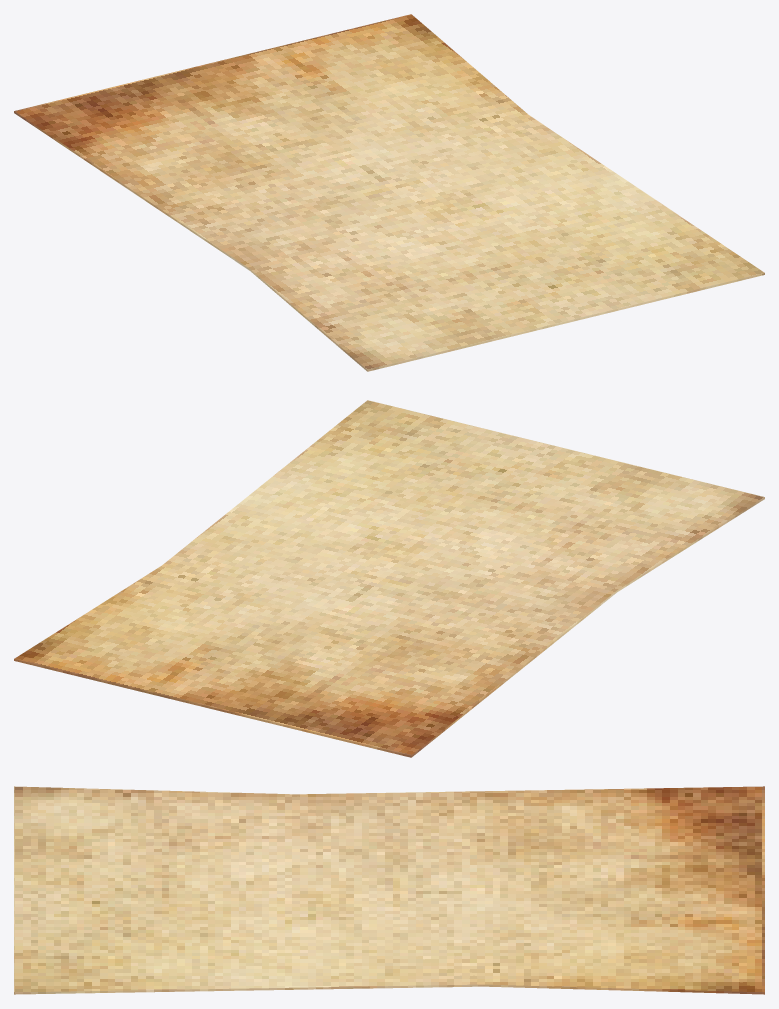
File: Paper.gltf
The picture shows the model from 3 angles, top to bottom: view 1: azimuth 30°, elevation 25°; view 2: azimuth 150°, elevation 25°; view 3: azimuth 270°, elevation 25°; orthographic projection. The views are drawn at different scales.
Parts seen in each view (by area): view 1: Paper; view 2: Paper; view 3: Paper.
Part boxes in pixels (x1=…): Paper: x1=14, y1=14, x2=764, y2=371; Paper: x1=14, y1=400, x2=764, y2=757; Paper: x1=14, y1=786, x2=764, y2=994.
Bounding box in the file's own units: 2.14 × 0.0101 × 3.3.
Materials: 1 (1 with a texture image).
